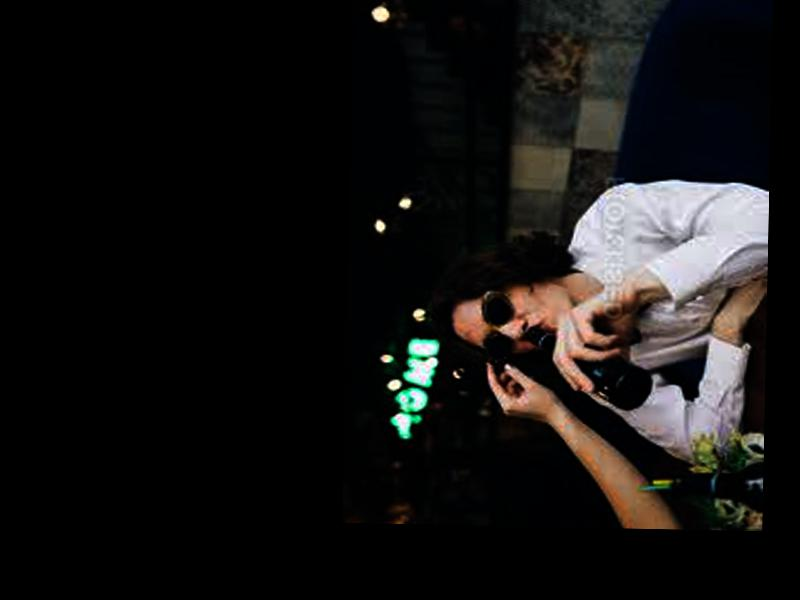Beer: (526, 327, 656, 413)
